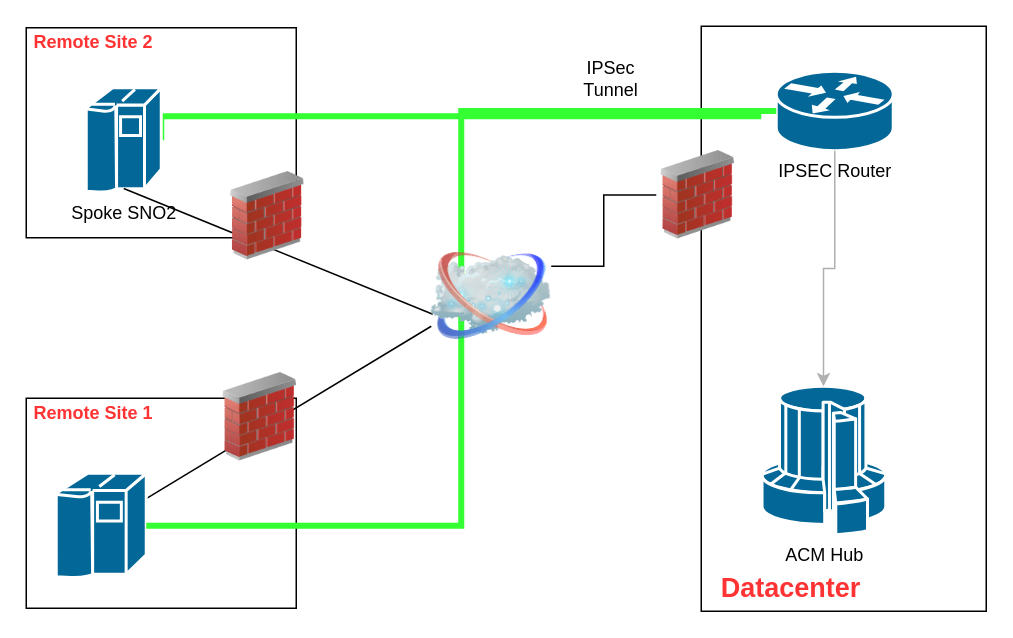
This 1013x638 diagram has some shape labels left out. The shapes that lost their labels are listed below. From the top down, each one's centre as x and y in pixels, then its label:
At [490,296]: "Internet".
At [100,525]: "Spoke SNO1".
